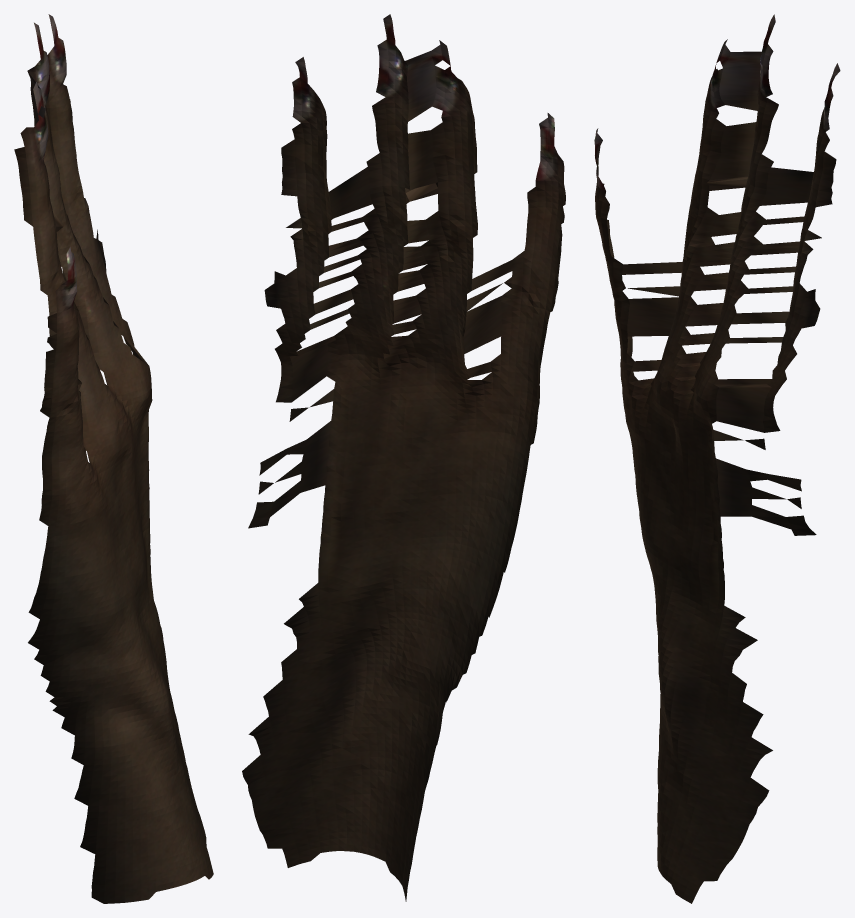
File: kez_1.obj
The picture shows the model from 3 angles, left to right: view 1: azimuth 30°, elevation 25°; view 2: azimuth 150°, elevation 25°; view 3: azimuth 270°, elevation 25°; orthographic projection. The views are drawn at different scales.
Bounding box in the file's own units: 67.23 × 254 × 68.35.
Materials: 1 (1 with a texture image).
